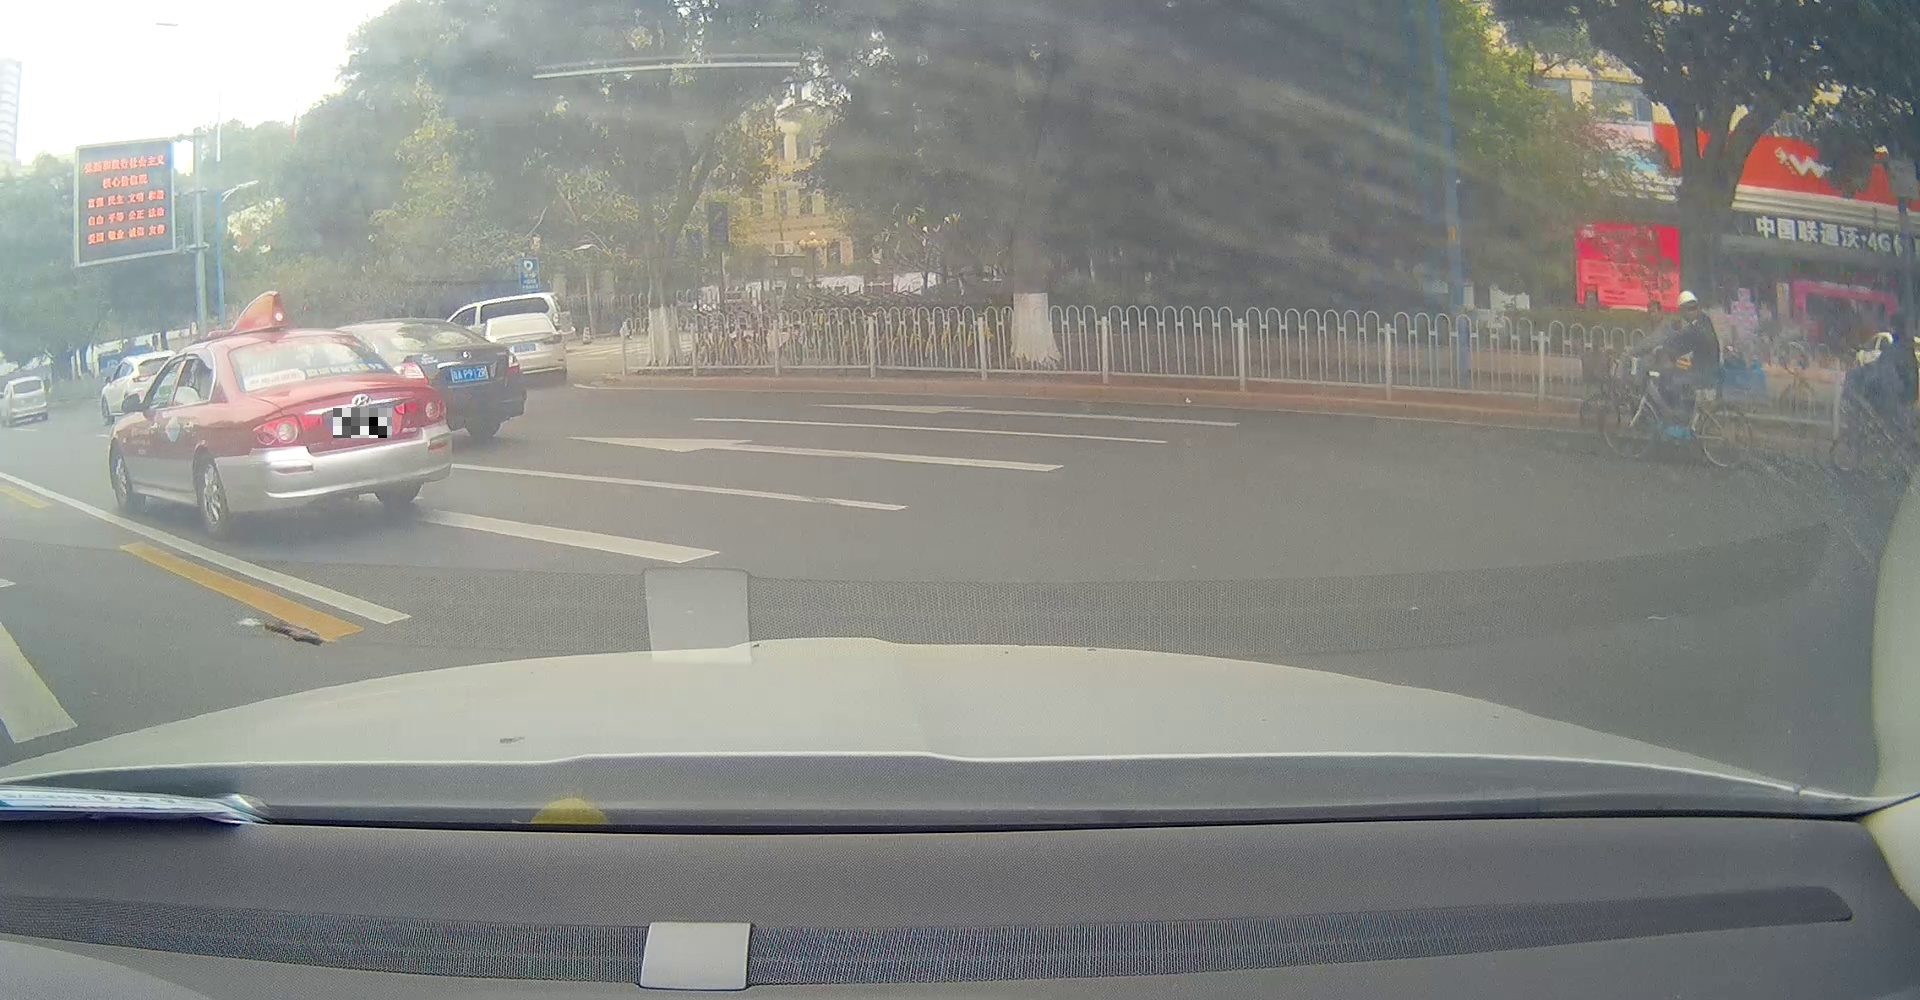L_light: (251, 414, 303, 447)
R_light: (422, 396, 447, 426)
T_light: (282, 336, 312, 343)
day-no: (226, 329, 452, 536)
plate_1: (333, 409, 392, 438)
